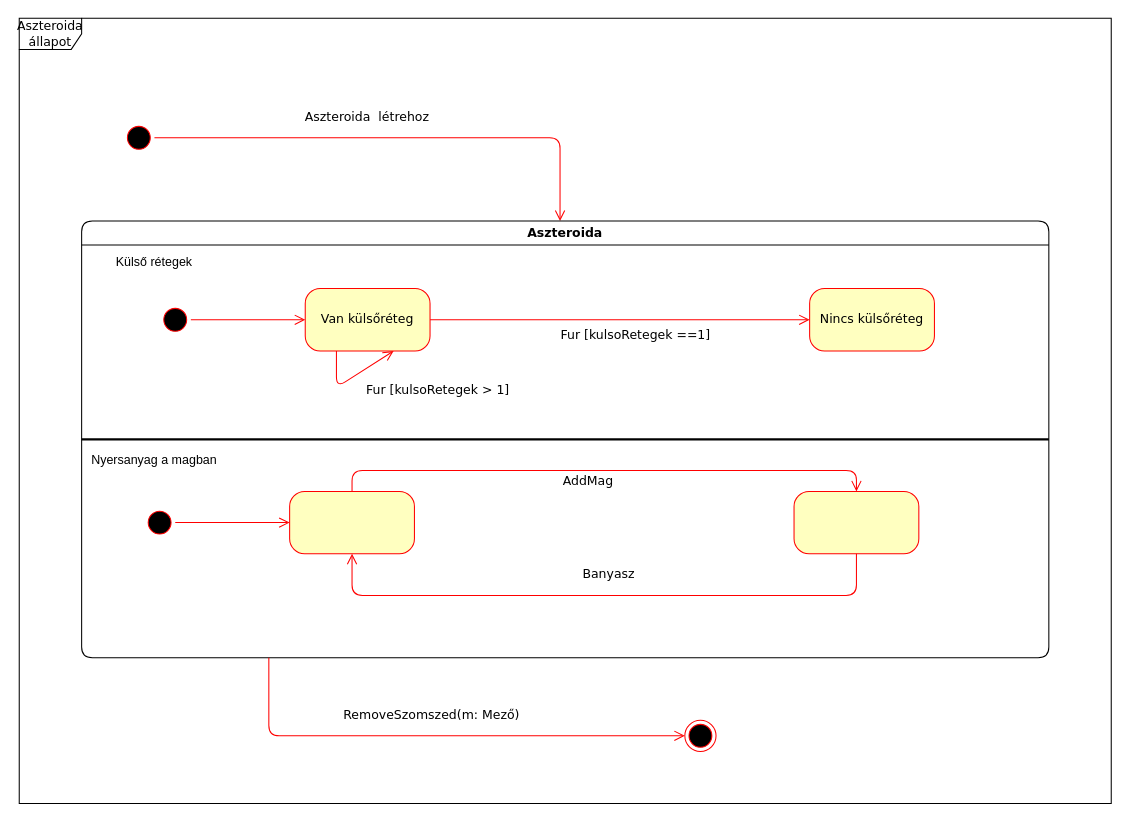
Image size: 1129x822. Some labels were removed from this diagram. Here are the shapes that lost their labels. From the top down, the centre of each, then its label:
the point at 351,522: Mag üres
the point at 856,522: Magban nyersanyag
